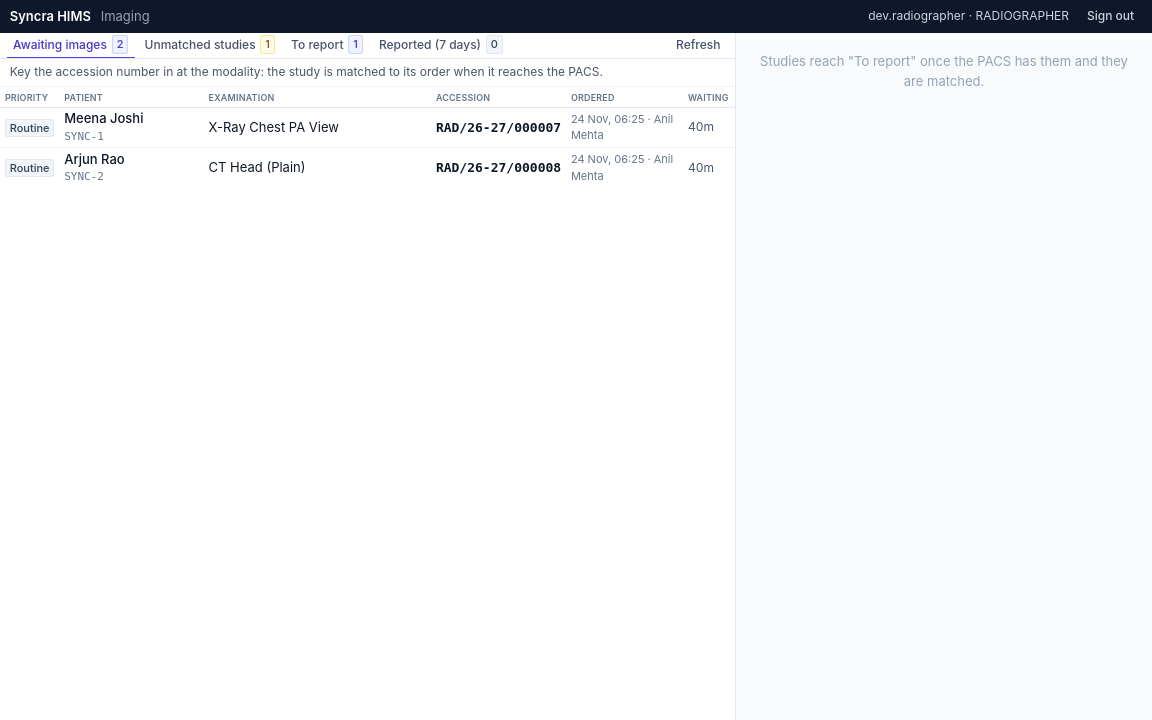
Scenario: Imaging desk › lets the radiographer match a study to that patient's order, and not report
Expected: the text "RAD/26-27/000007" is shown, 431,107 -> 566,148
Click the tab "Unmatched studies 1": (210, 46) 138,32 -> 281,58
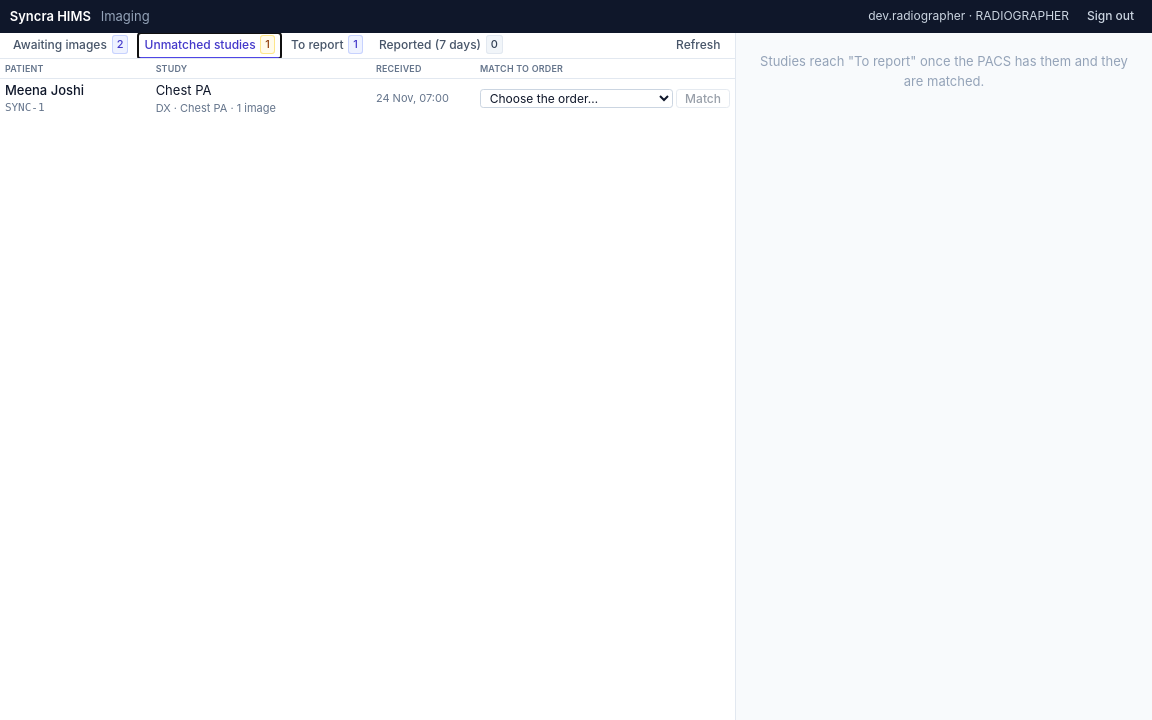
Select "X-Ray Chest PA View · RAD/26-27/000007 · 24 Nov, 06:25" in the dropdown named "Order for Meena Joshi's study": (576, 99) 480,89 -> 673,108
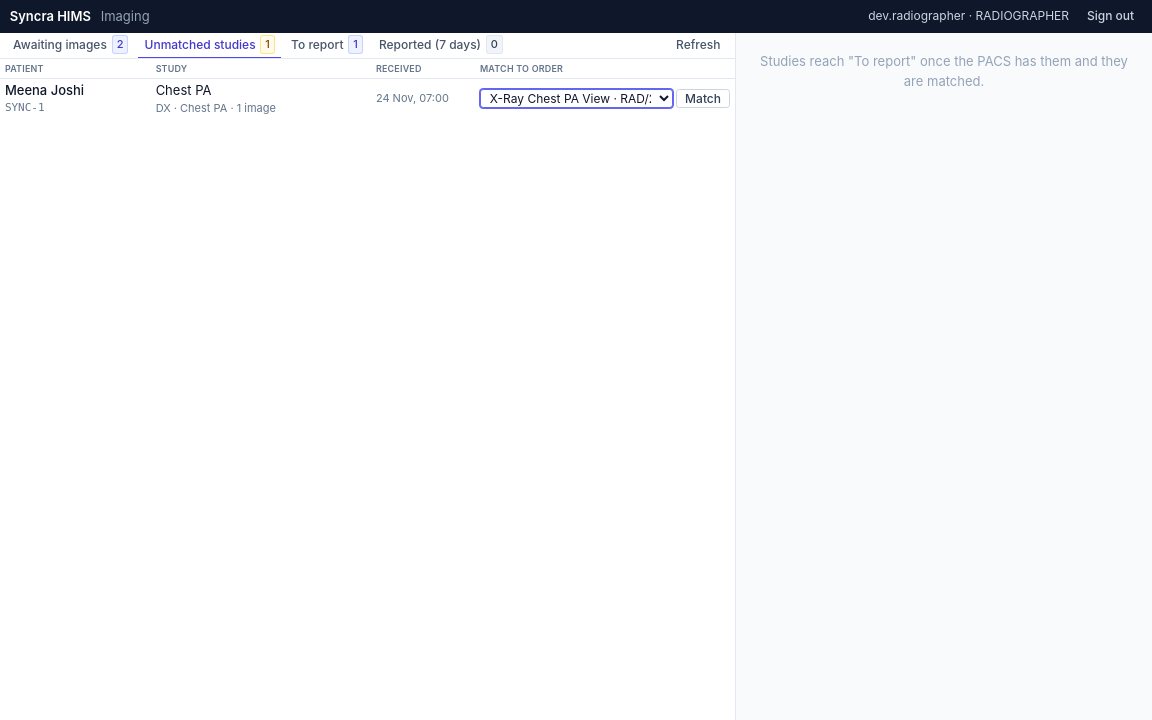
Click the button "Match": (703, 99) 676,89 -> 730,108
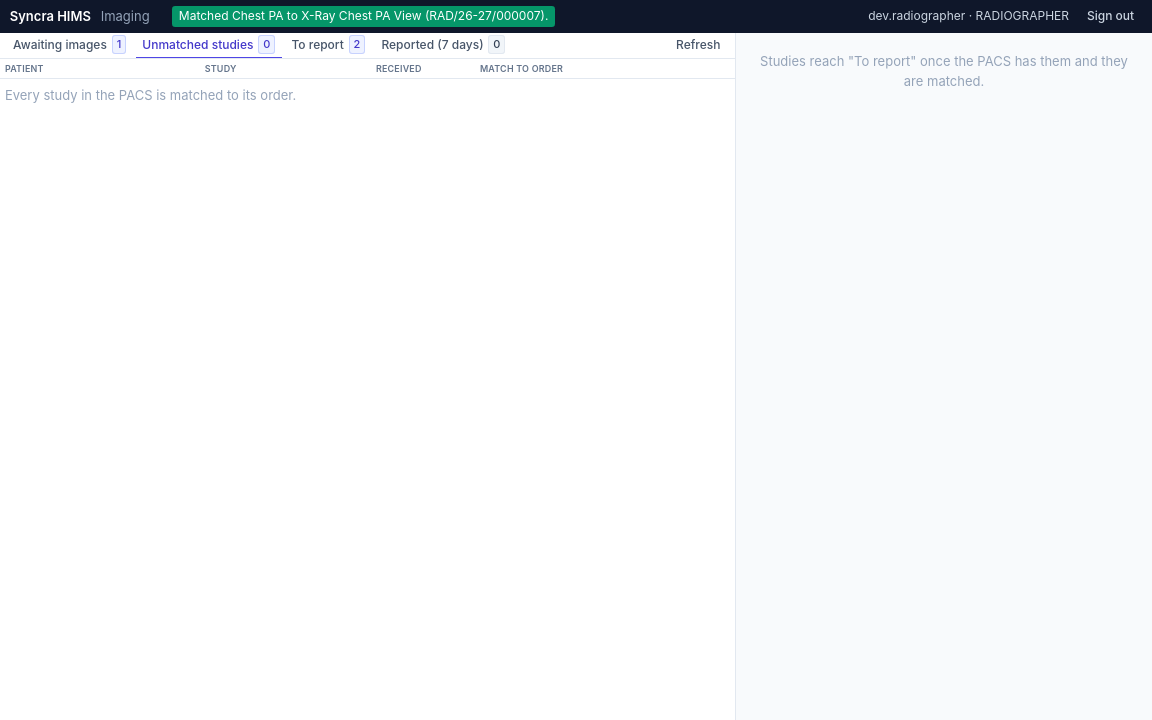
Now the message reads "Matched Chest PA to X-Ray Chest PA View (RAD/26-27/000007).", box 179,8 -> 548,23
Click the tab "To report 2": (328, 46) 285,32 -> 372,58
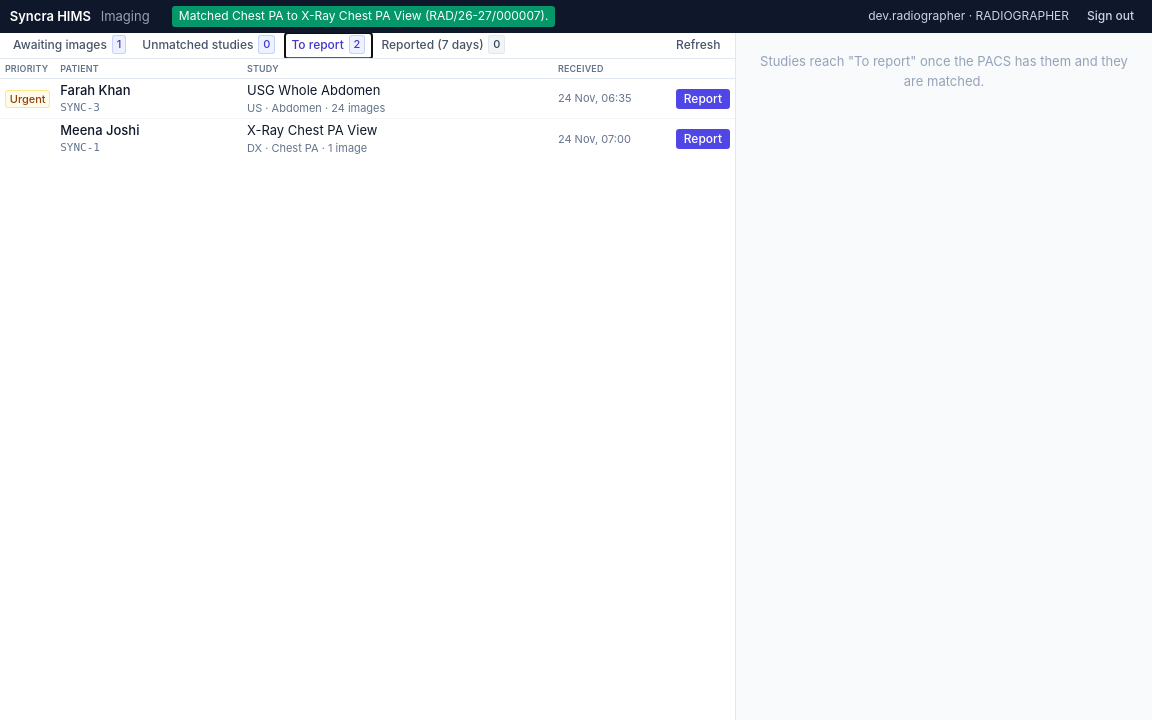
Click the button "Report" in the row of "Urgent": (703, 99) 676,89 -> 730,108
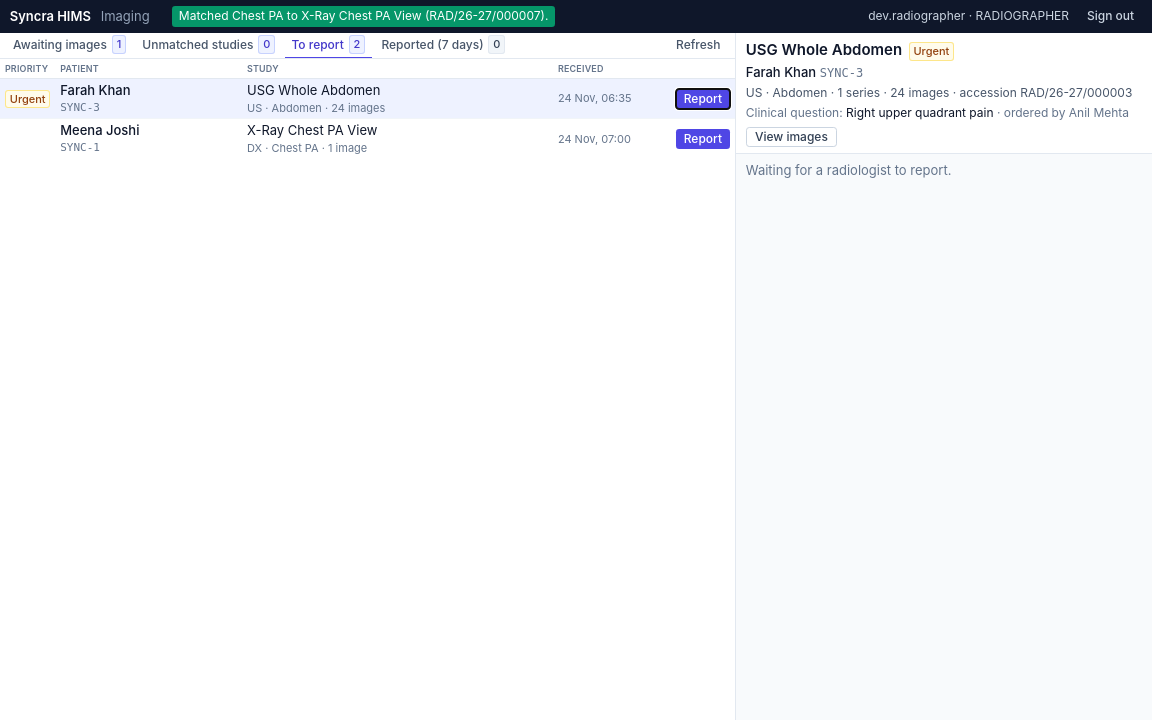
Now the text "Waiting for a radiologist to report." is shown, box 746,162 -> 952,178
